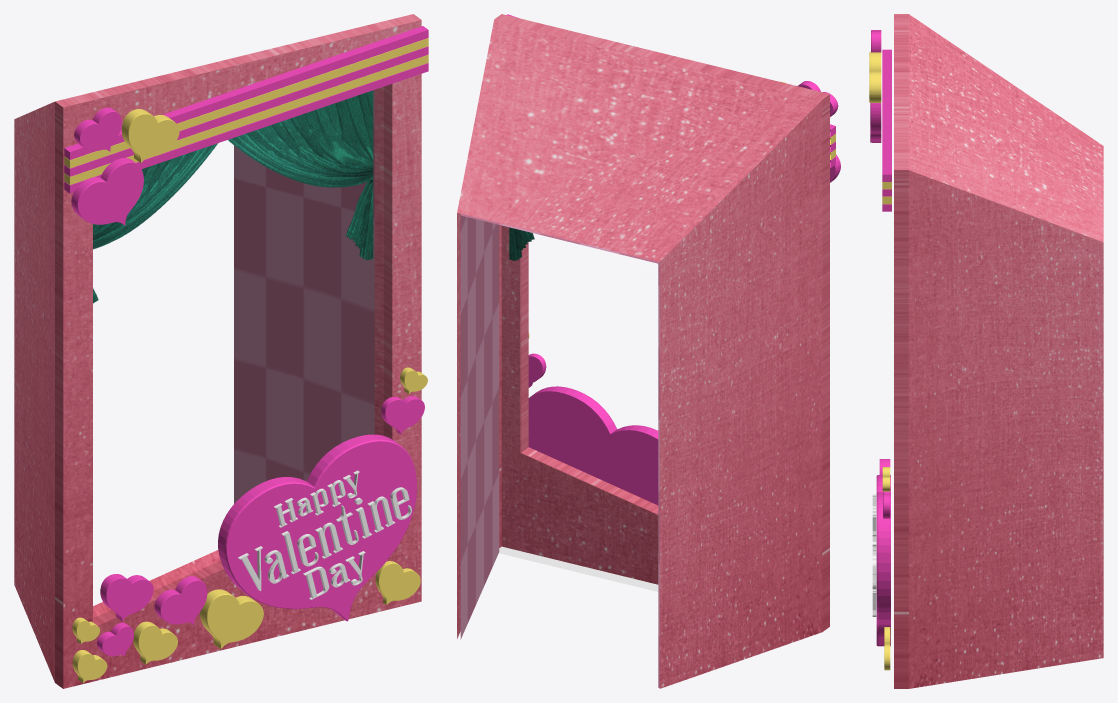
Rendered from box_toAR.glb.
3 renders of one model, left to right at view 1: azimuth 30°, elevation 25°; view 2: azimuth 150°, elevation 25°; view 3: azimuth 270°, elevation 25°, orthographic. The views are drawn at different scales.
Parts seen in each view (by area): view 1: box; view 2: box; view 3: box.
Part boxes in pixels (box(x1,y1,x2,y2)): box: box(14, 14, 428, 688); box: box(457, 14, 840, 688); box: box(869, 14, 1103, 688).
Size of the model in its own units: 2.11 by 3.27 by 1.34.
4 materials, 1 textured.
